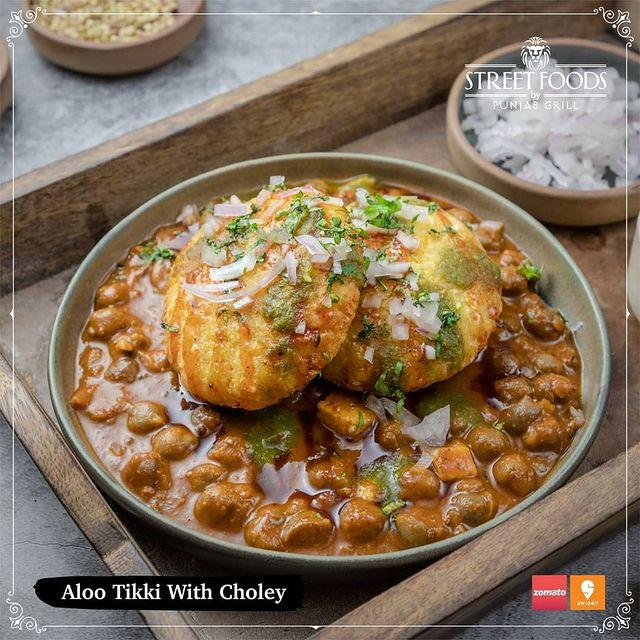Chole: (133, 391, 559, 549)
